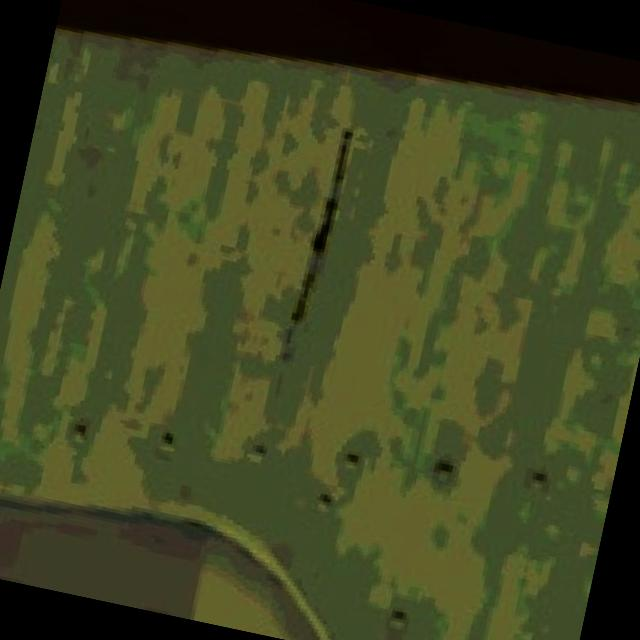crack: (220, 122, 380, 374)
